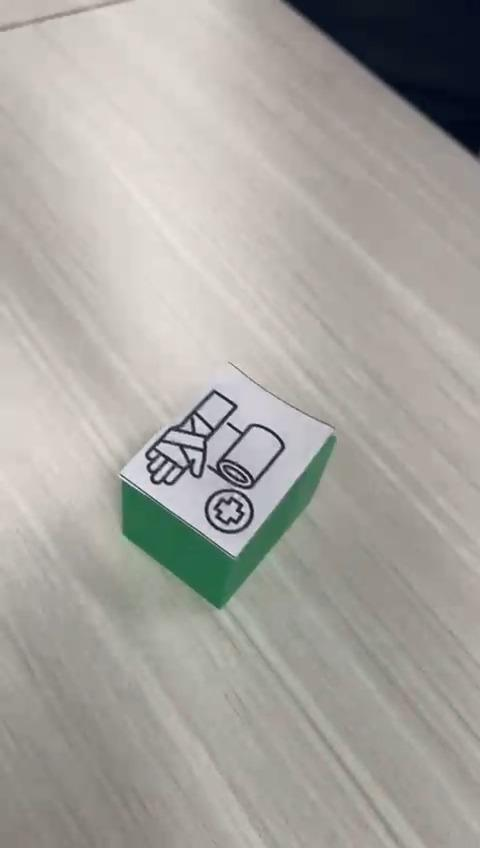Bandages: (120, 358, 337, 609)
